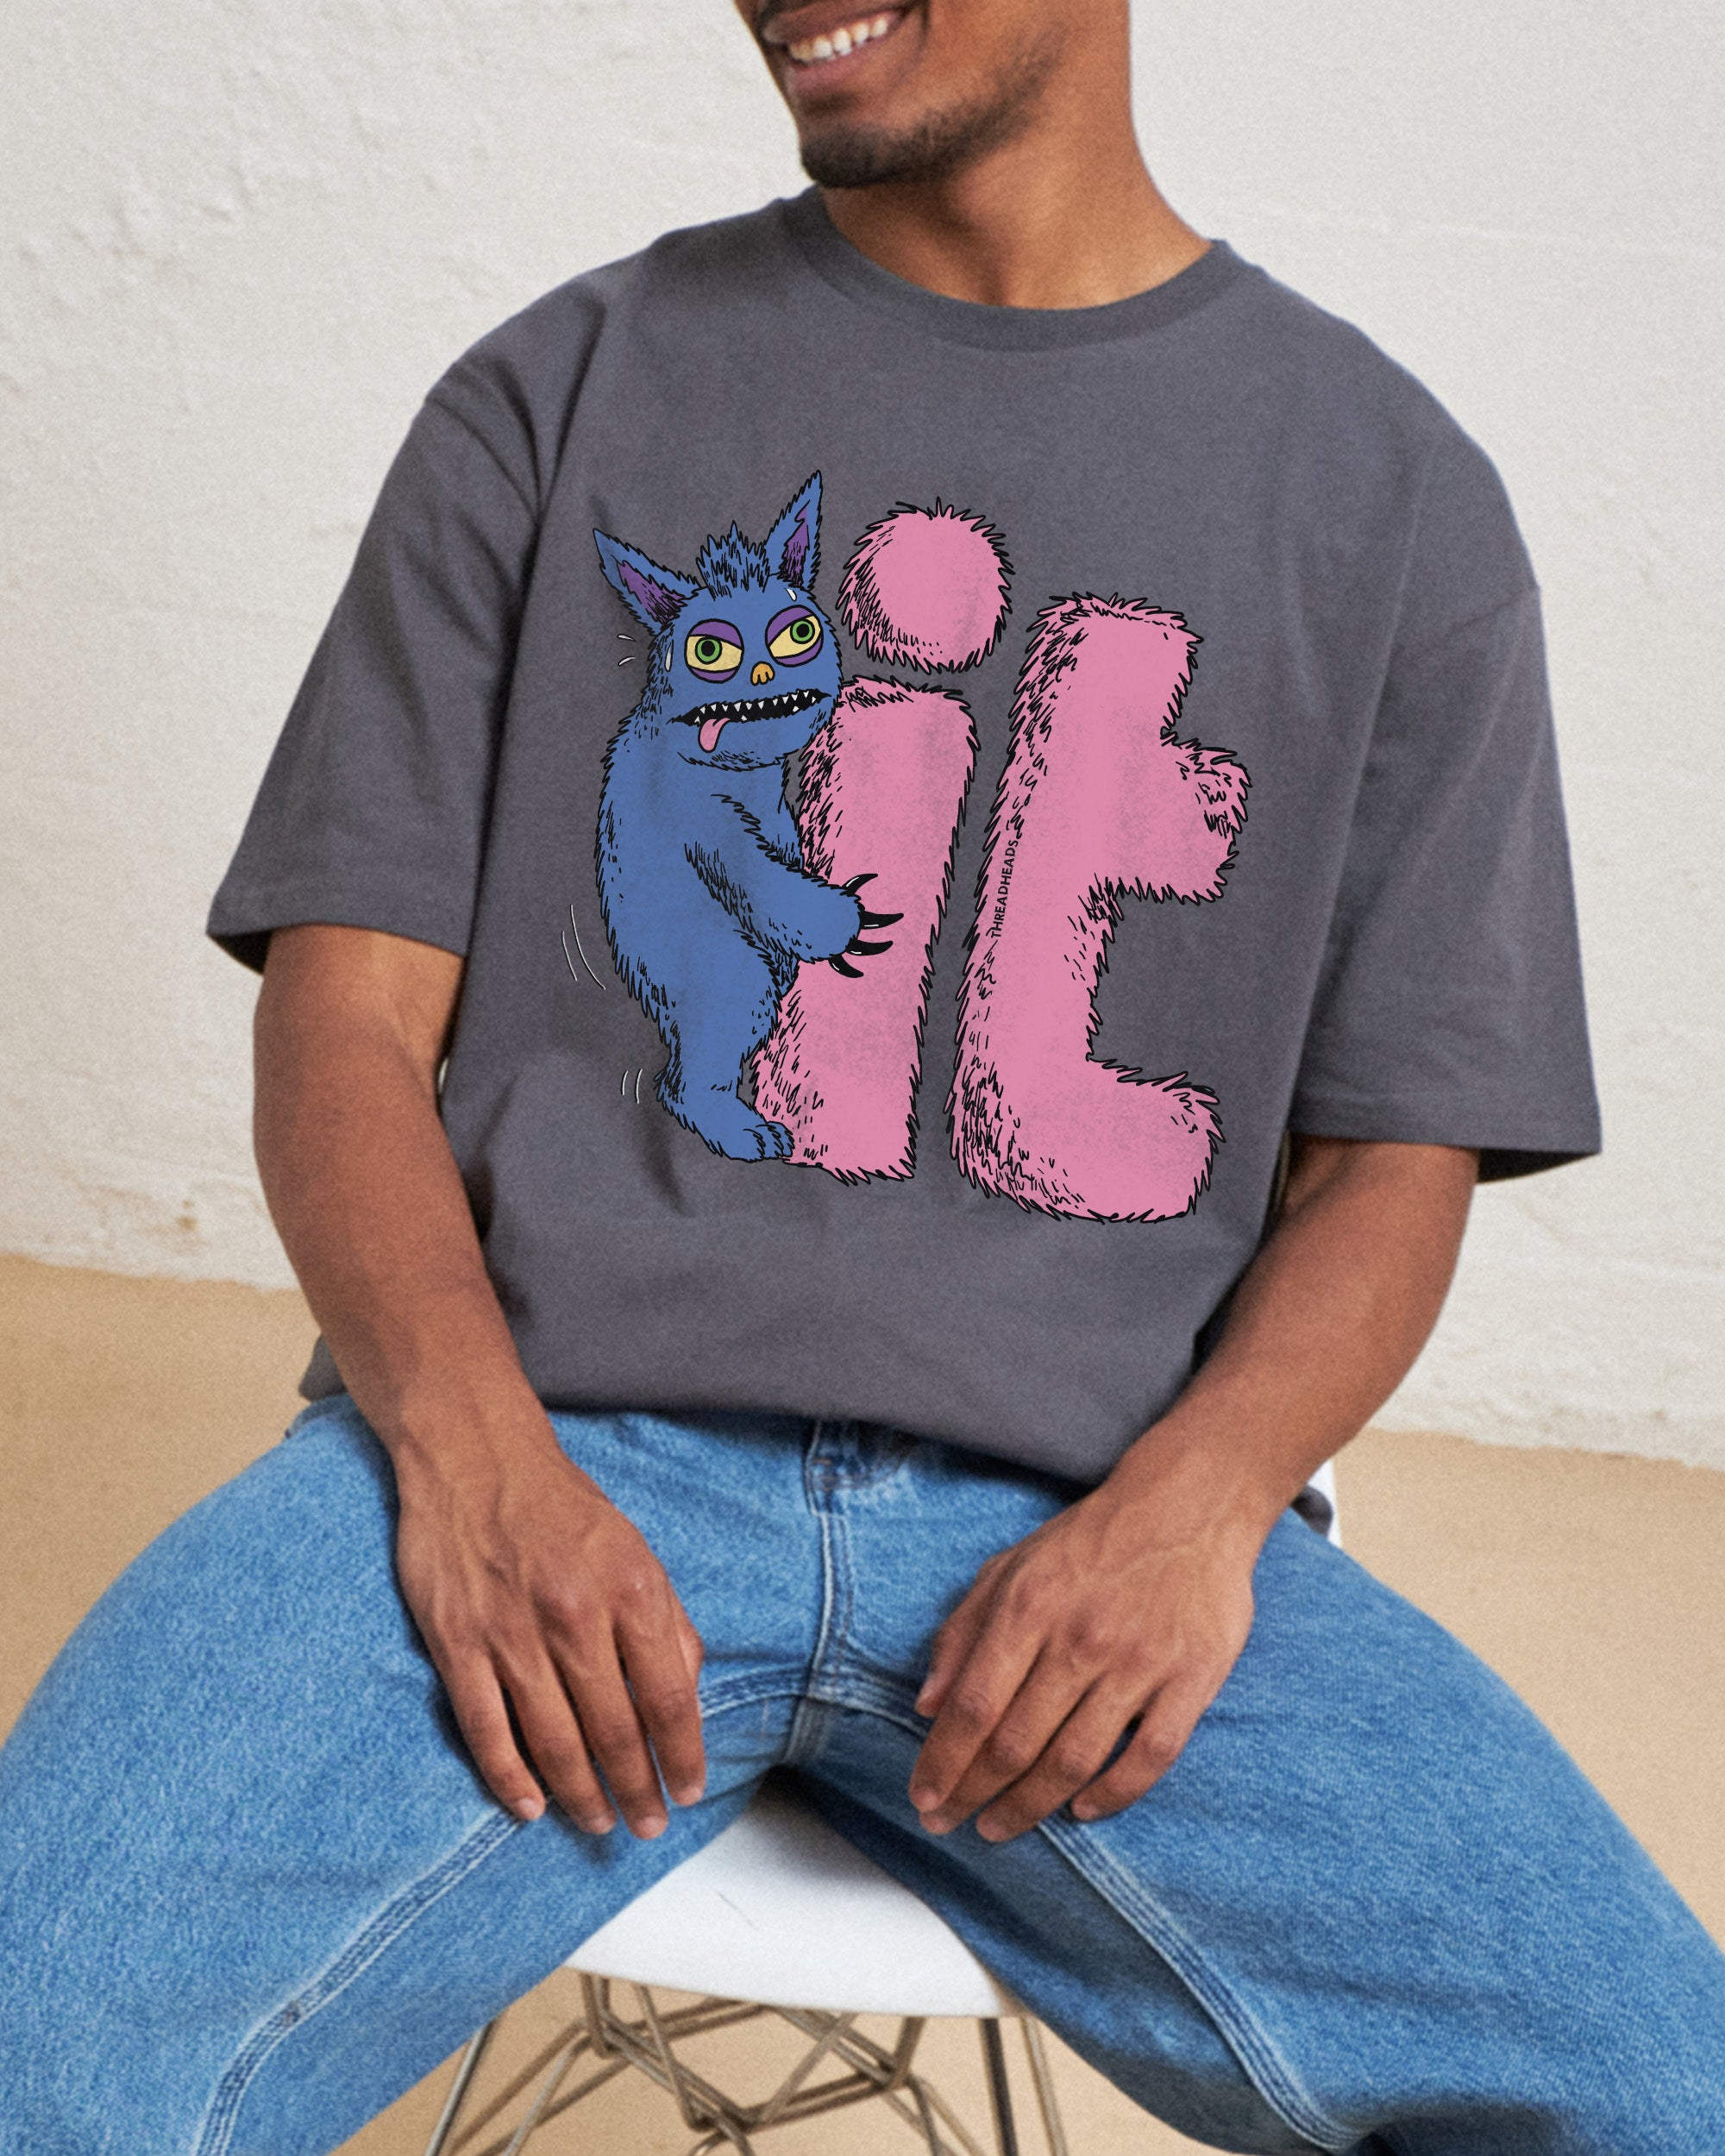design: (547, 452, 1259, 1237)
